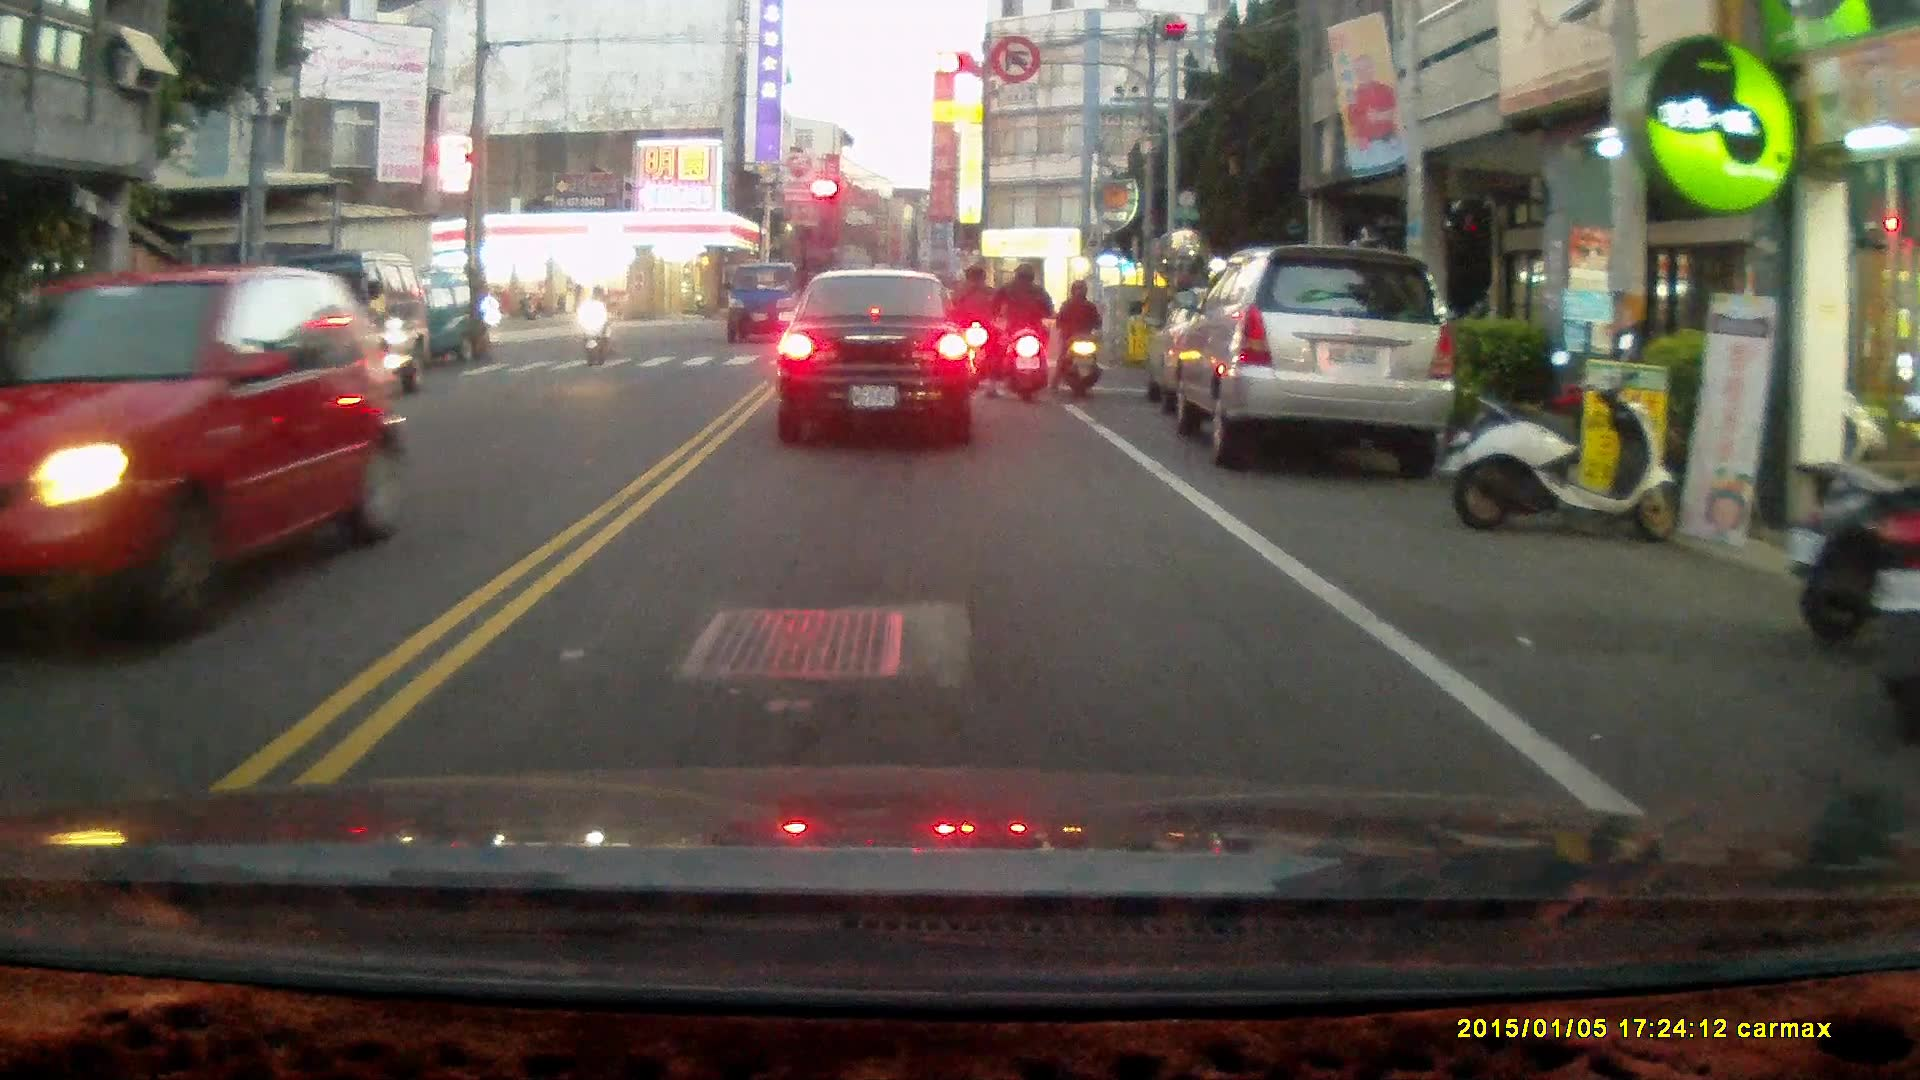rider: (987, 258, 1056, 405), (1050, 275, 1105, 398), (947, 264, 995, 387), (581, 281, 611, 368)
vehicle: (1, 264, 411, 628), (1161, 243, 1453, 468), (779, 267, 981, 443), (232, 248, 427, 403)
